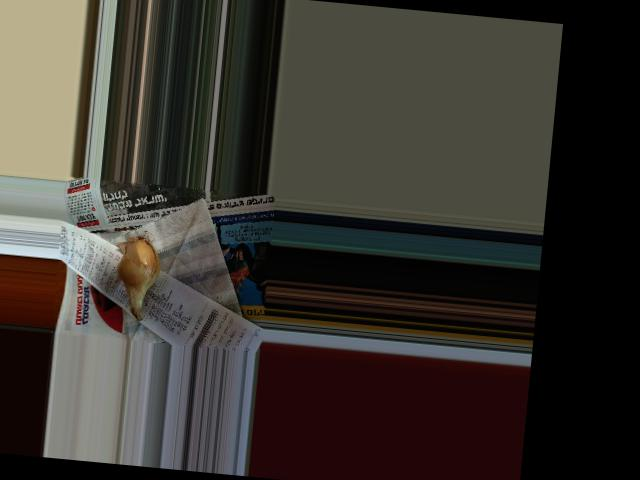onion: (116, 231, 166, 300)
